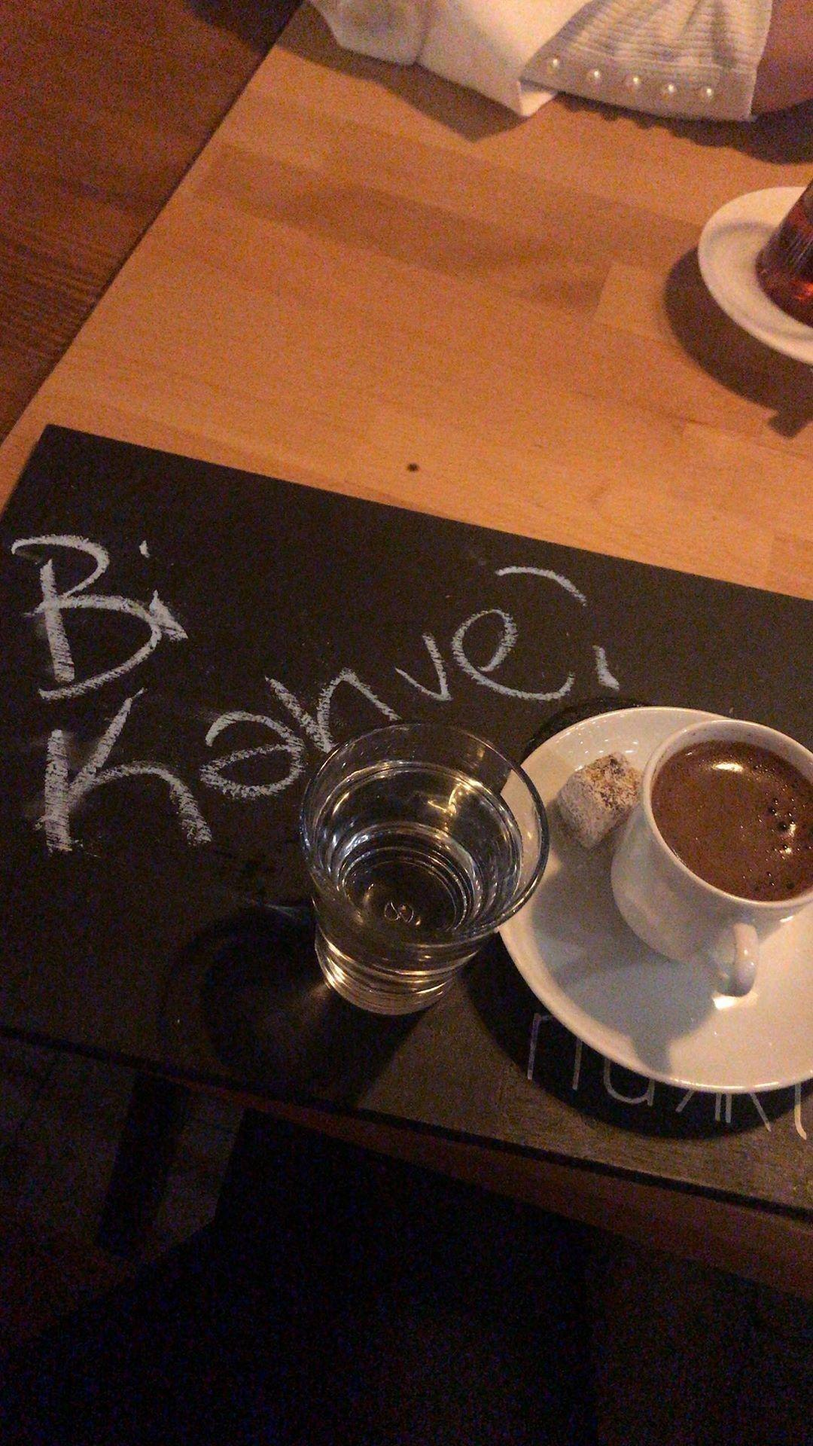cup-handle: (608, 715, 812, 1003)
glass-normal: (298, 718, 549, 1015)
